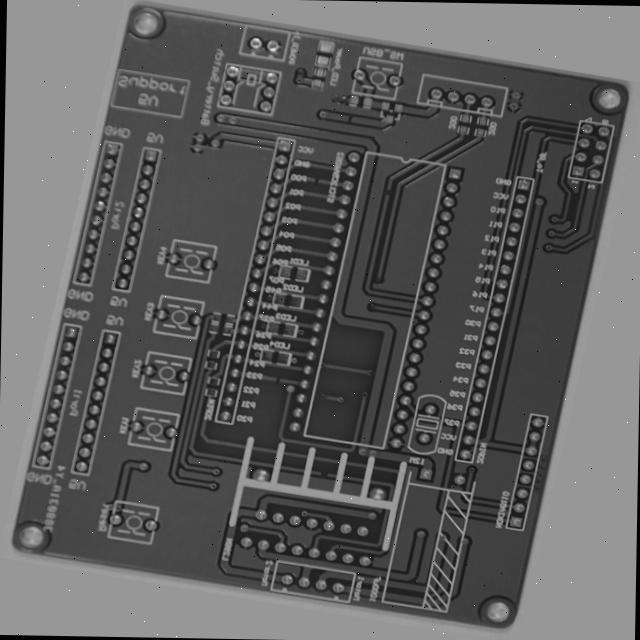open_circuit: (276, 386, 289, 401), (360, 162, 372, 175), (354, 485, 370, 494), (274, 160, 285, 173), (297, 87, 309, 98)
